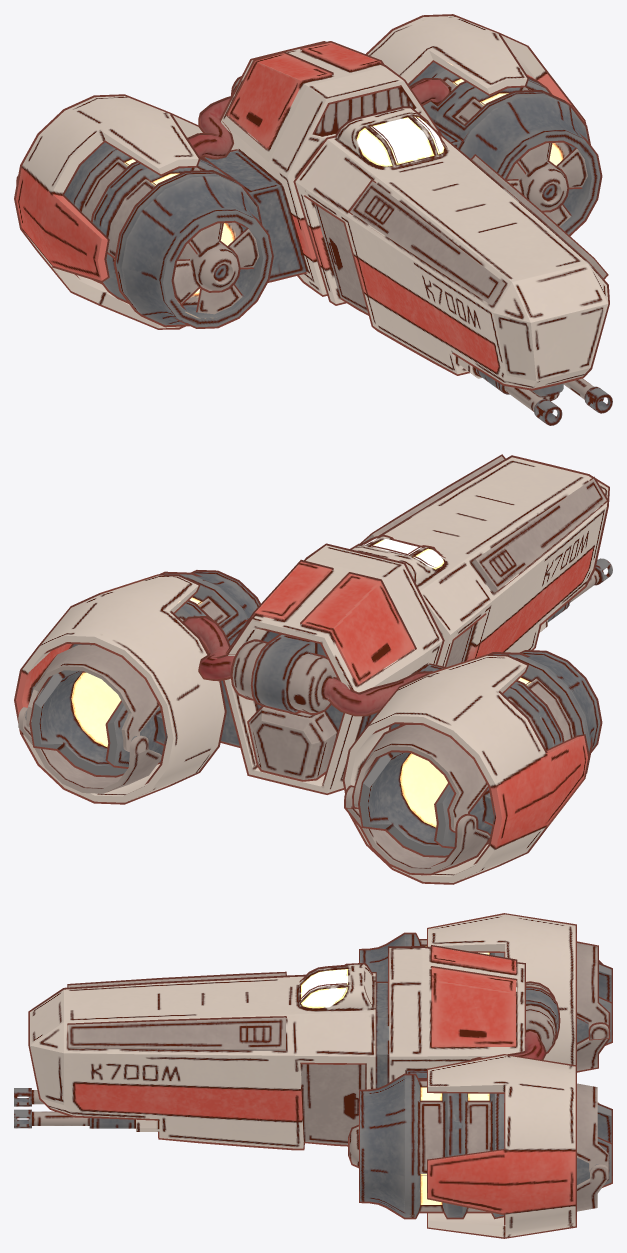
The model's file is cruiser.glb.
The picture shows the model from 3 angles, top to bottom: view 1: azimuth 30°, elevation 25°; view 2: azimuth 150°, elevation 25°; view 3: azimuth 270°, elevation 25°; orthographic projection. The views are drawn at different scales.
Visible parts, largest first — view 1: Ship, Vint.001, Vint.002, Gun; view 2: Ship, StopU.001, StopU.002, StopD.001, StopD.002, Gun; view 3: Ship, Gun, StopU.001, StopU.002, StopD.001, StopD.002.
Boxes of the visible parts, x1=… form: Ship: x1=14, y1=14, x2=609, y2=390; Vint.001: x1=173, y1=223, x2=259, y2=314; Vint.002: x1=506, y1=143, x2=587, y2=226; Gun: x1=457, y1=357, x2=612, y2=425; Ship: x1=14, y1=454, x2=609, y2=884; StopU.001: x1=352, y1=724, x2=488, y2=832; StopU.002: x1=25, y1=645, x2=159, y2=751; StopD.001: x1=344, y1=785, x2=490, y2=875; StopD.002: x1=18, y1=707, x2=161, y2=793; Gun: x1=539, y1=558, x2=612, y2=632; Ship: x1=28, y1=913, x2=612, y2=1238; Gun: x1=14, y1=1088, x2=159, y2=1131; StopU.001: x1=577, y1=941, x2=610, y2=1029; StopU.002: x1=577, y1=1083, x2=608, y2=1171; StopD.001: x1=577, y1=1022, x2=610, y2=1072; StopD.002: x1=577, y1=1164, x2=608, y2=1211.
Size of the model in its own units: 3.17 by 1.34 by 3.66.
Materials: 2 (1 with a texture image).
